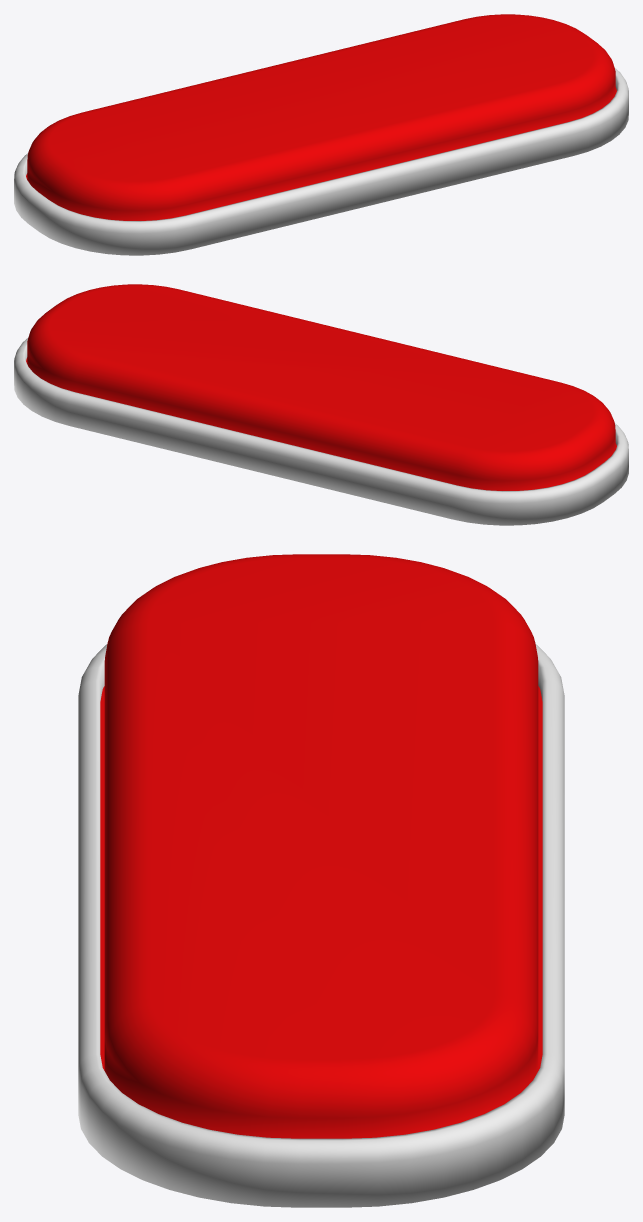
File: slider-button.fbx
The picture shows the model from 3 angles, top to bottom: view 1: azimuth 30°, elevation 25°; view 2: azimuth 150°, elevation 25°; view 3: azimuth 270°, elevation 25°; orthographic projection. The views are drawn at different scales.
Parts seen in each view (by area): view 1: Button, Base; view 2: Button, Base; view 3: Button, Base.
Boxes of the visible parts, x1,y1,x2,y2 form: Button: [26, 14, 616, 220]; Base: [14, 68, 628, 255]; Button: [26, 284, 616, 490]; Base: [14, 338, 628, 525]; Button: [100, 554, 542, 1138]; Base: [78, 644, 564, 1207].
Bounding box in the file's own units: 201 × 19.8 × 73.69.
